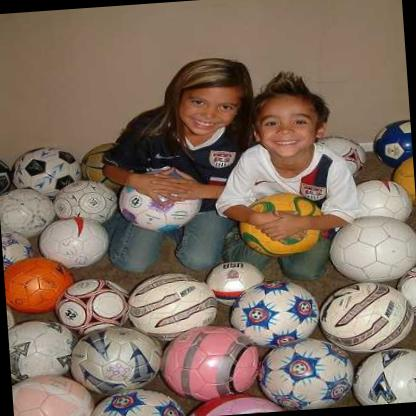ball: (160, 323, 261, 404), (256, 334, 353, 412), (319, 278, 416, 355), (327, 211, 416, 287), (126, 270, 217, 344), (72, 322, 165, 394), (119, 166, 205, 235), (238, 190, 323, 258), (56, 276, 130, 339), (8, 317, 78, 378), (3, 256, 74, 314), (349, 347, 416, 406), (11, 144, 82, 198), (39, 214, 107, 270), (11, 371, 94, 416), (347, 178, 412, 231), (55, 178, 117, 228), (0, 185, 56, 239), (205, 261, 264, 308), (314, 133, 370, 181), (372, 120, 414, 168), (389, 153, 416, 210)
